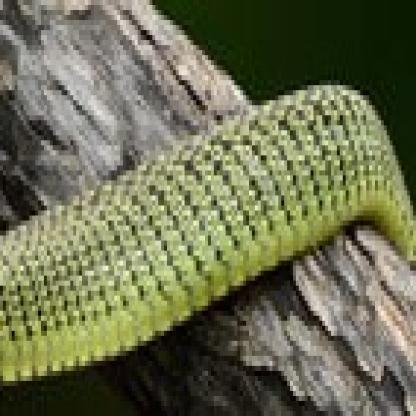Snake: (2, 76, 416, 416)
